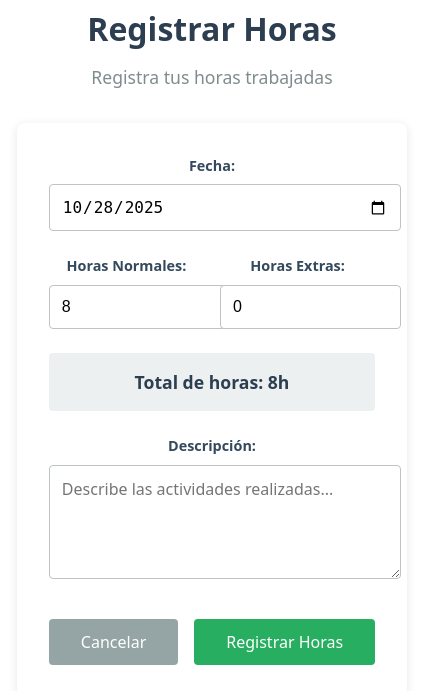
Test case: HoursLog Component › debe mostrar un mensaje de error si falla el registro
Click the button "Registrar Horas".
click(285, 642)  # box [194,619,375,665]
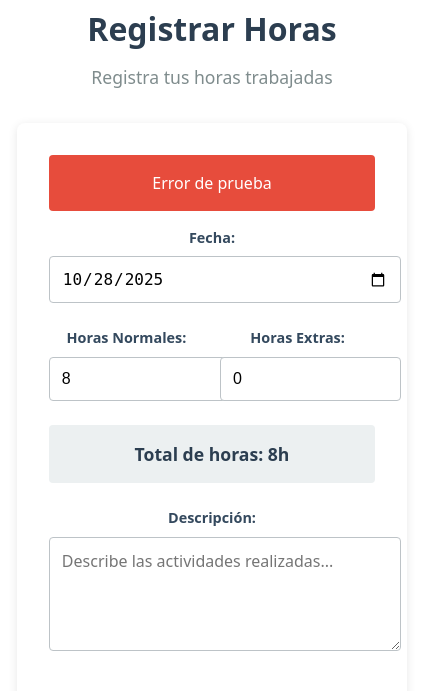
expect the text "Error de prueba" is shown: met, box [49,155,375,211]
